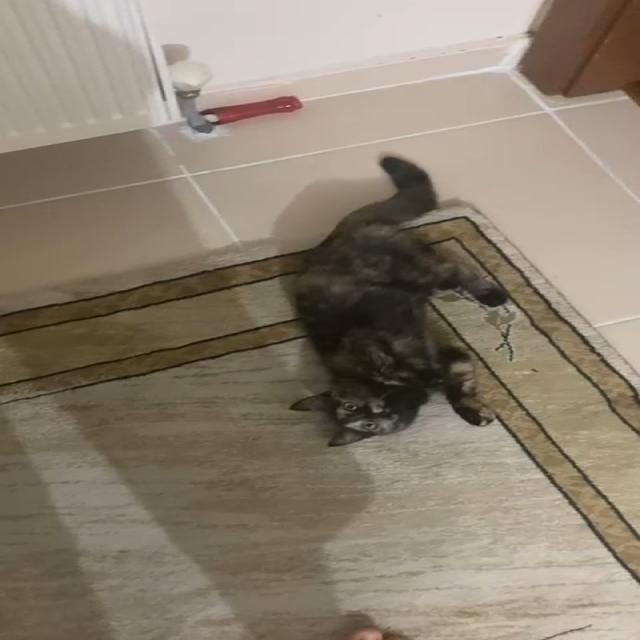authorized: (287, 154, 509, 447)
